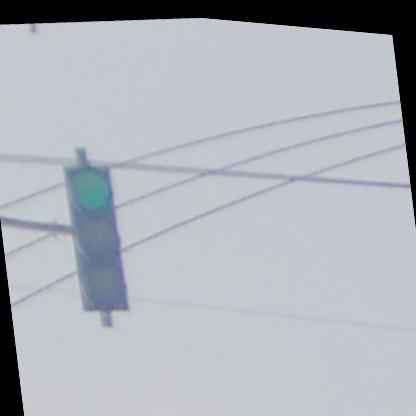green: (64, 163, 126, 313)
